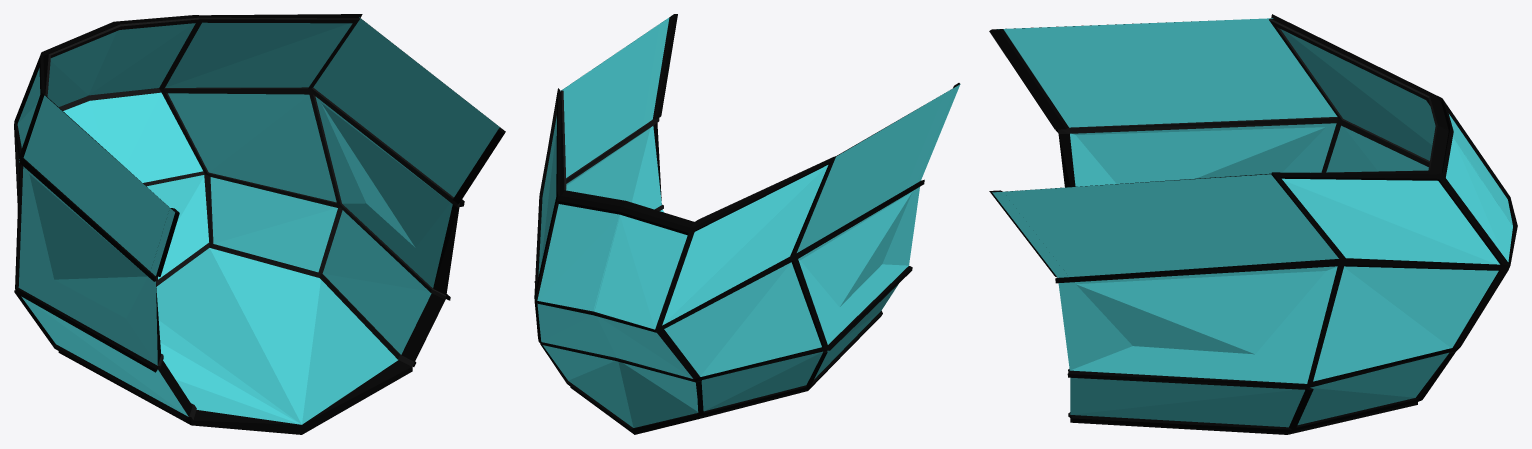
Rendered from CockpitTest.fbx.
3 renders of one model, left to right at view 1: azimuth 30°, elevation 25°; view 2: azimuth 150°, elevation 25°; view 3: azimuth 270°, elevation 25°, orthographic. The views are drawn at different scales.
Visible parts, largest first — view 1: pCube1, pCube2; view 2: pCube2, pCube1; view 3: pCube1, pCube2.
Boxes of the visible parts, bbox=[...] form: pCube1: bbox=[88, 14, 505, 434]; pCube2: bbox=[14, 22, 301, 434]; pCube2: bbox=[591, 83, 960, 434]; pCube1: bbox=[534, 14, 677, 434]; pCube1: bbox=[989, 124, 1517, 434]; pCube2: bbox=[989, 14, 1517, 226].
Size of the model in its own units: 16.2 by 14.08 by 21.64.
